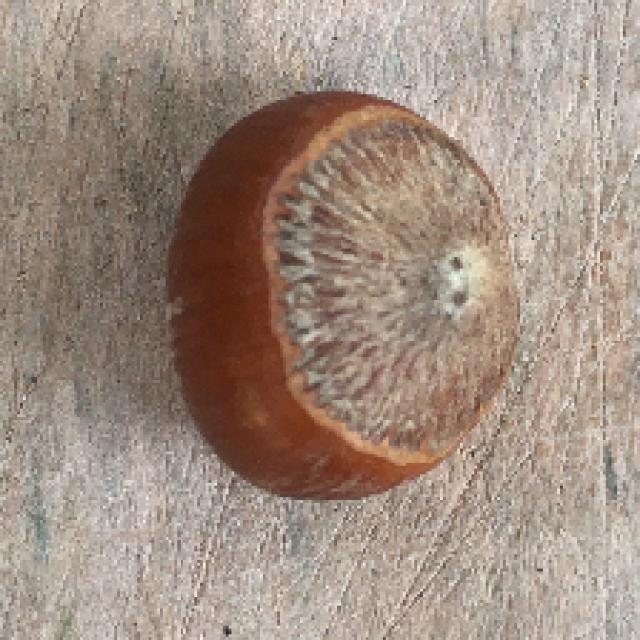damagedHazelnut: (161, 79, 521, 513)
